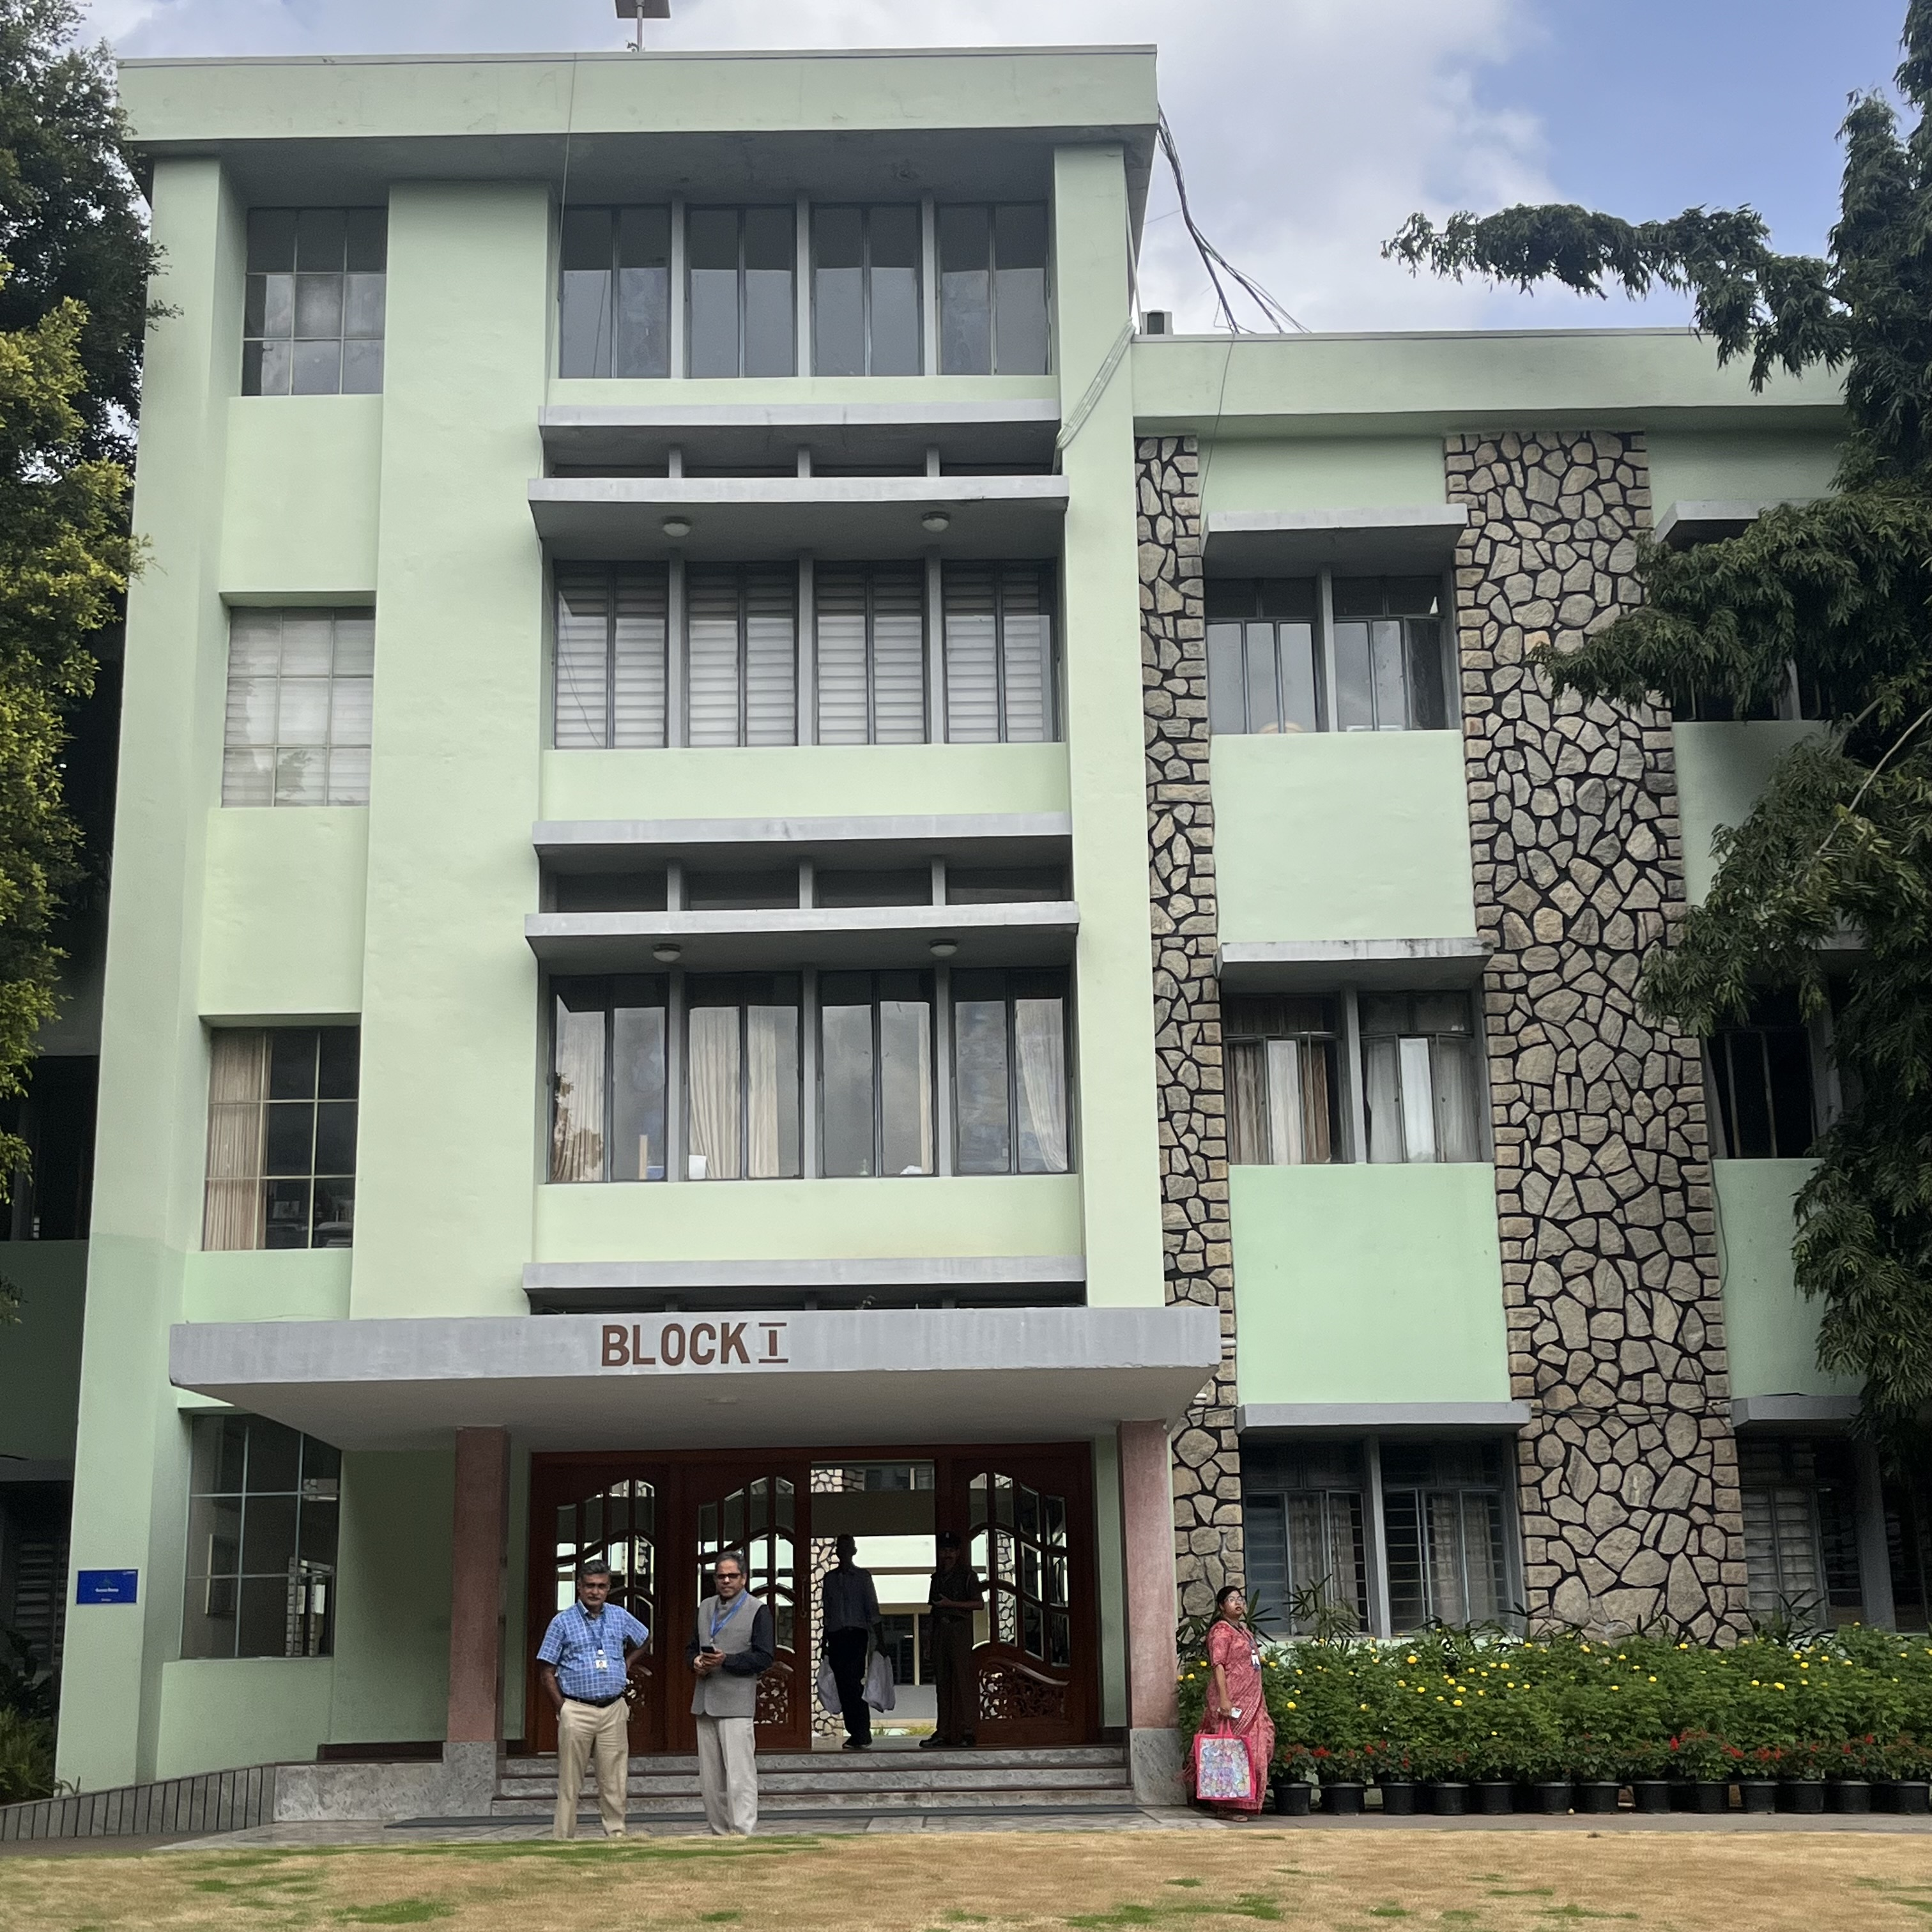Block 1: (113, 65, 1801, 1744)
